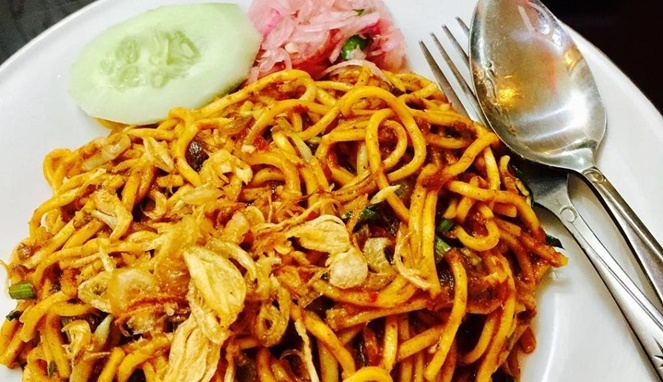mie_aceh: (4, 93, 536, 382)
